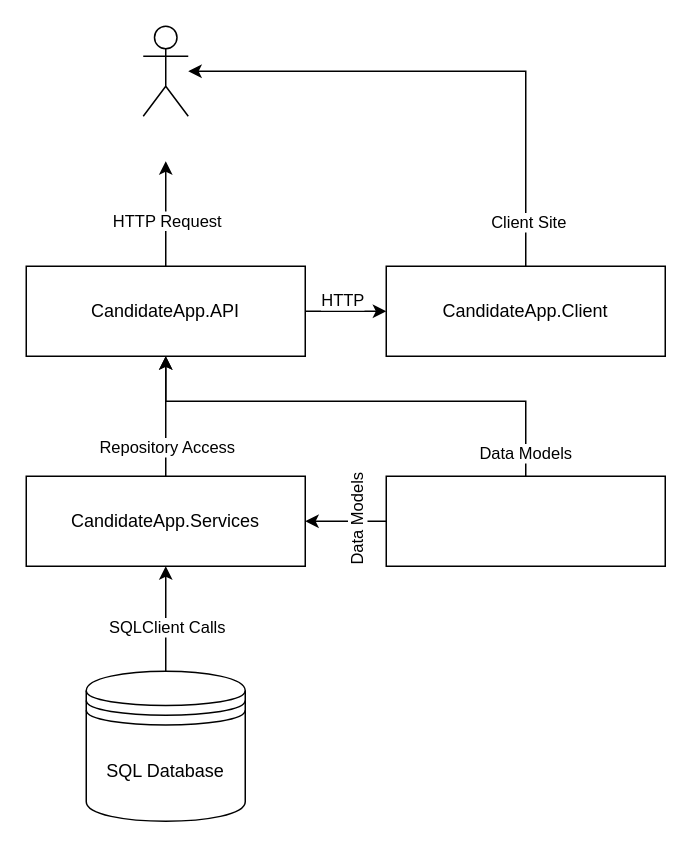
The diagram is 692 pixels wide and 848 high, and some of its shapes have lost their labels. The box of each missing label's shape, as (x1, y1, x2, y2) in pixels:
CandidateApp.Domain: (385, 475, 665, 566)
User: (142, 25, 188, 116)
